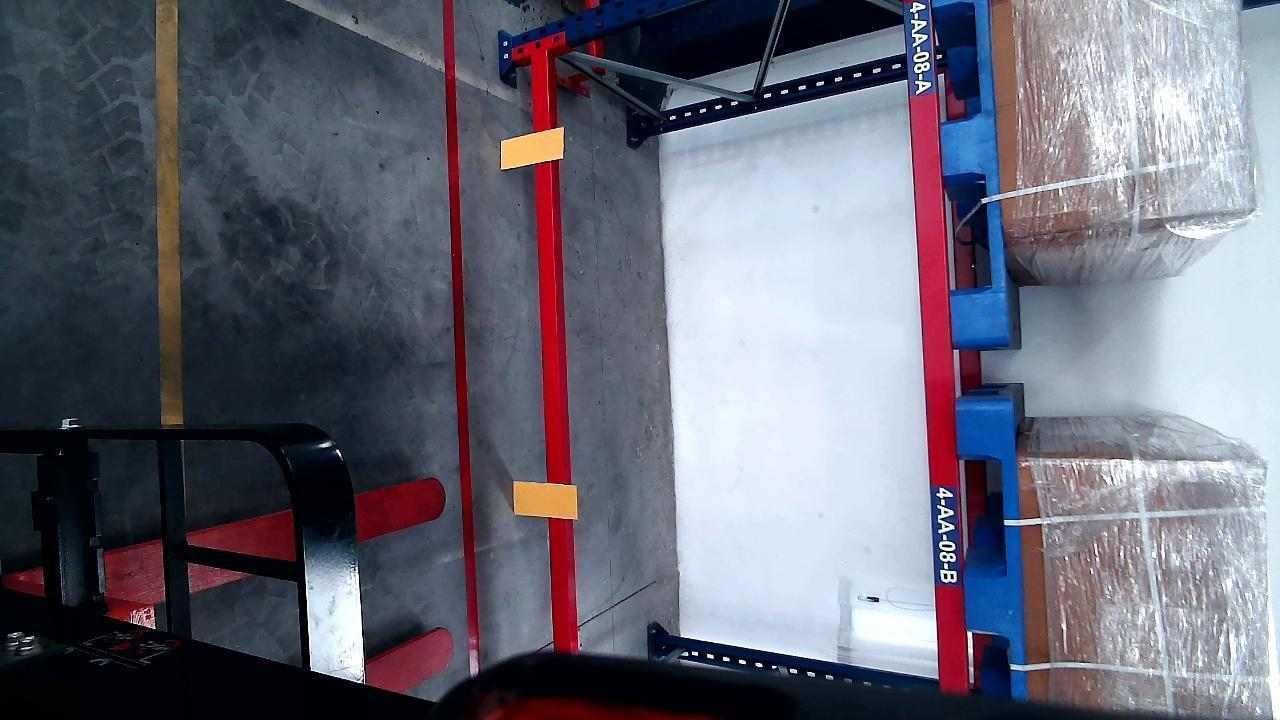red_line: (437, 0, 485, 673)
yellow_line: (155, 0, 184, 428)
